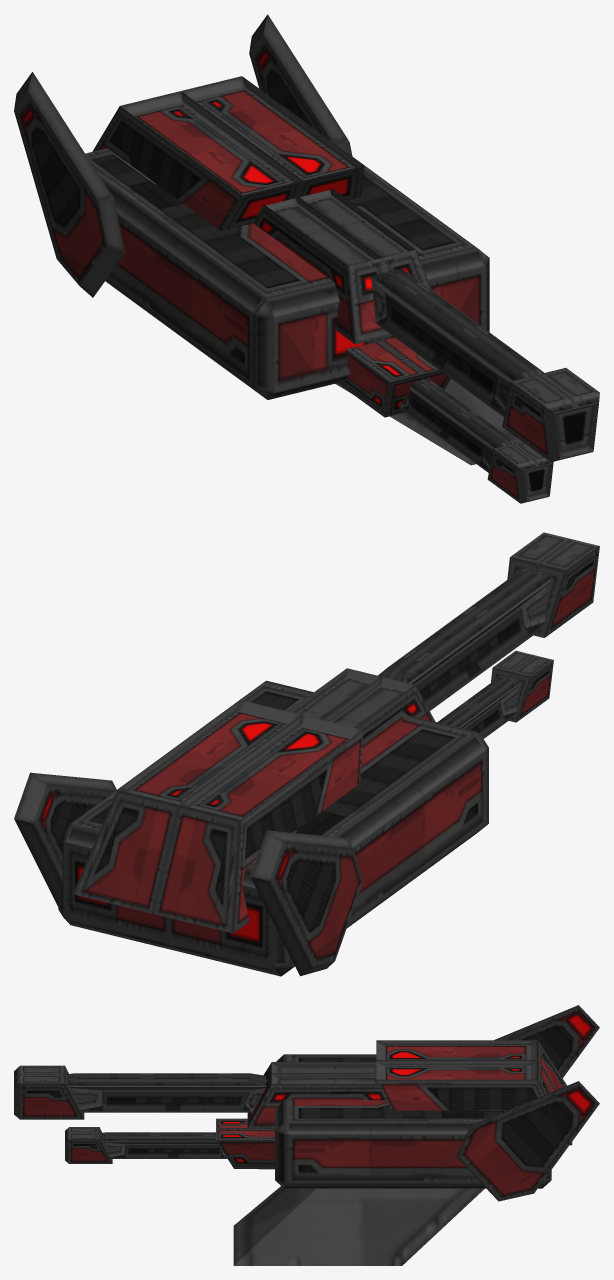
File: BFP_LaserCannon01_Right.FBX
3 views of the same model, one above another, from view 1: azimuth 30°, elevation 25°; view 2: azimuth 150°, elevation 25°; view 3: azimuth 270°, elevation 25° (orthographic). The views are drawn at different scales.
Parts seen in each view (by area): view 1: BFP_LaserCannon01_Right; view 2: BFP_LaserCannon01_Right; view 3: BFP_LaserCannon01_Right.
Part boxes in pixels (x1=…): BFP_LaserCannon01_Right: x1=14, y1=14, x2=599, y2=503; BFP_LaserCannon01_Right: x1=14, y1=532, x2=599, y2=976; BFP_LaserCannon01_Right: x1=14, y1=1005, x2=599, y2=1265.
Bounding box in the file's own units: 106 × 79.57 × 259.
1 material, 1 textured.
